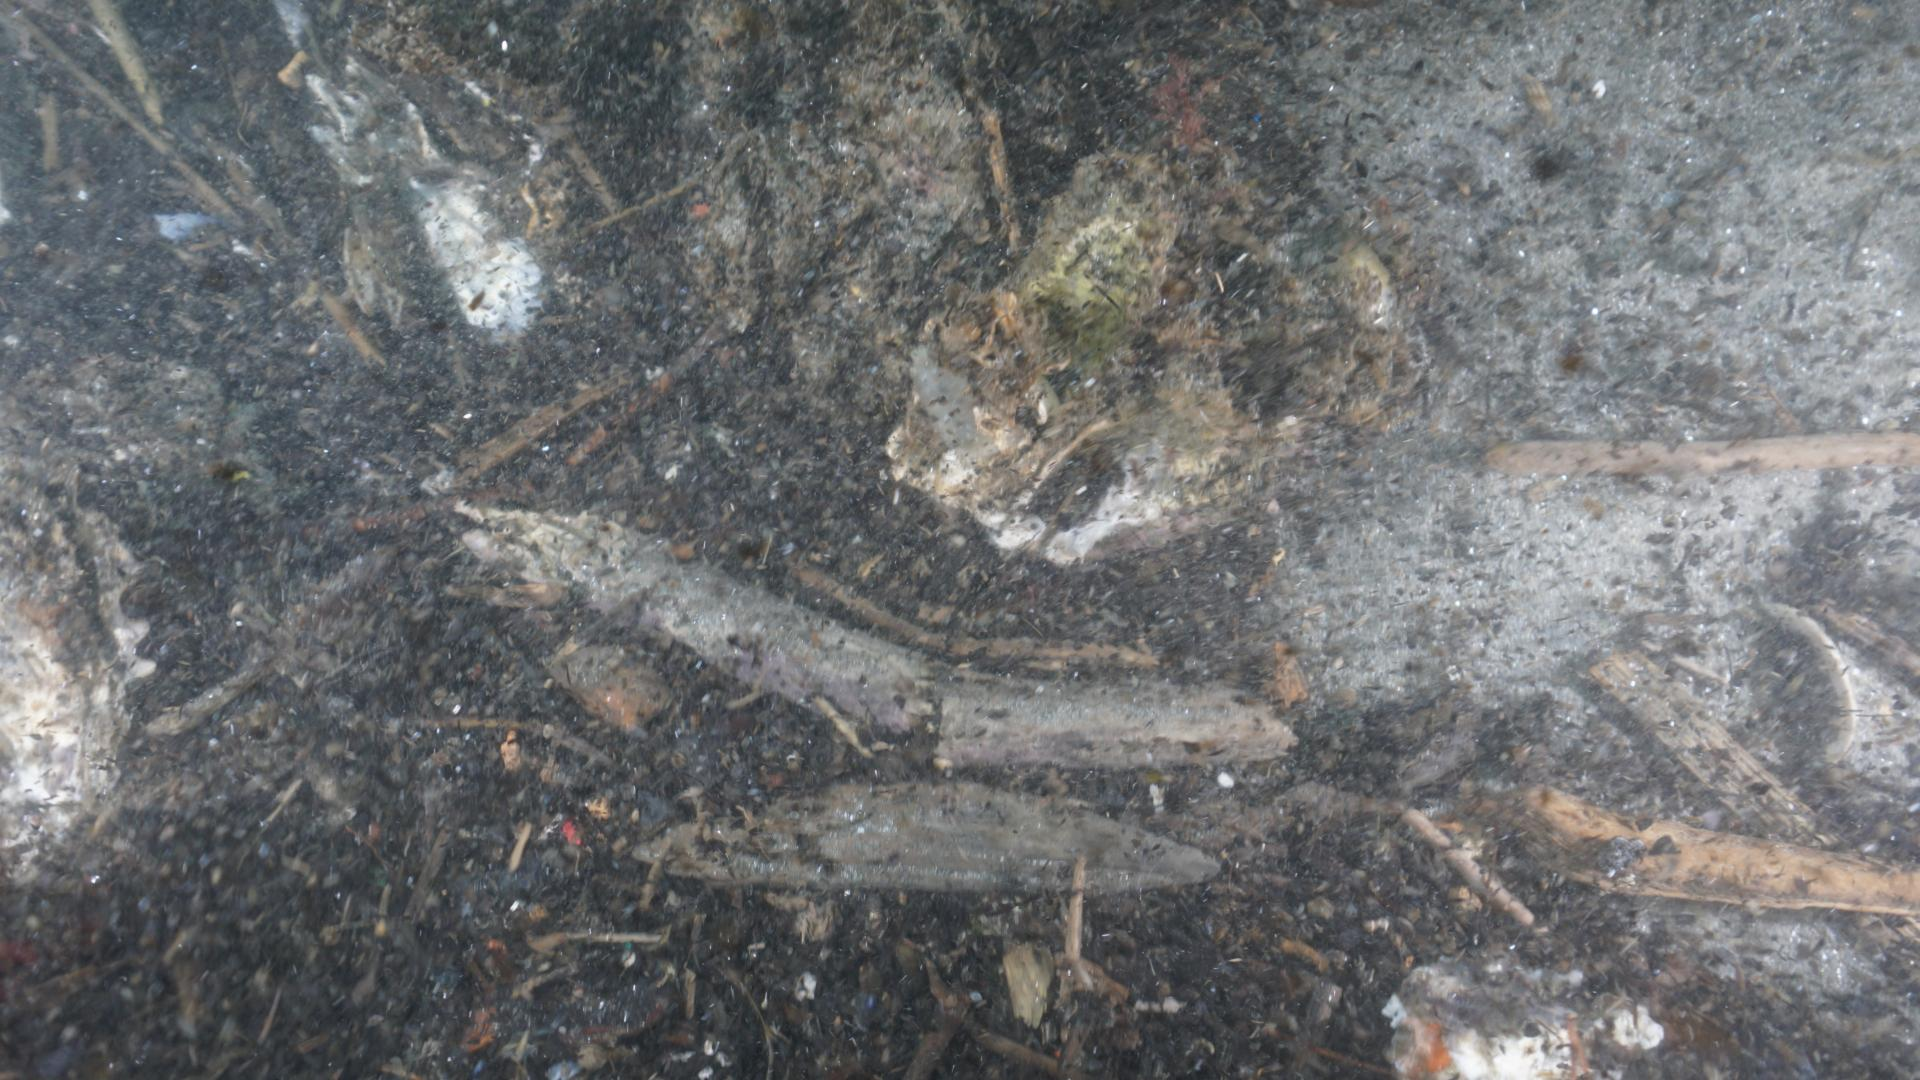wood: (464, 498, 1291, 762), (621, 785, 1226, 895), (1534, 789, 1920, 909), (1485, 436, 1920, 473)
